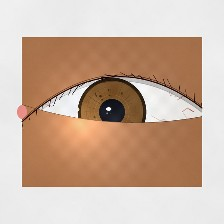pinguecula_lesion: (41, 89, 92, 130)
